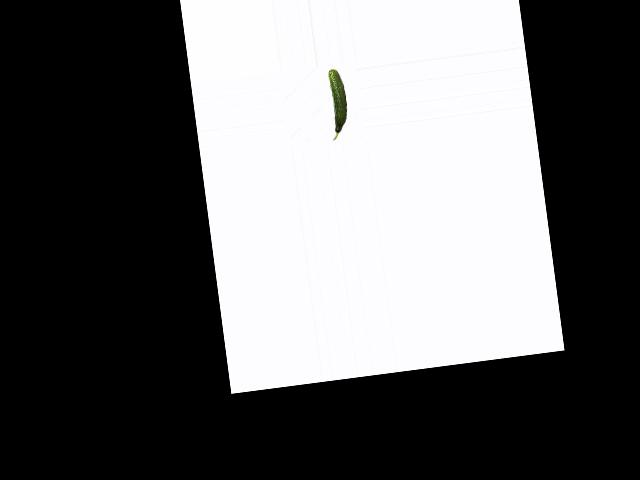cucumber: (324, 68, 351, 140)
